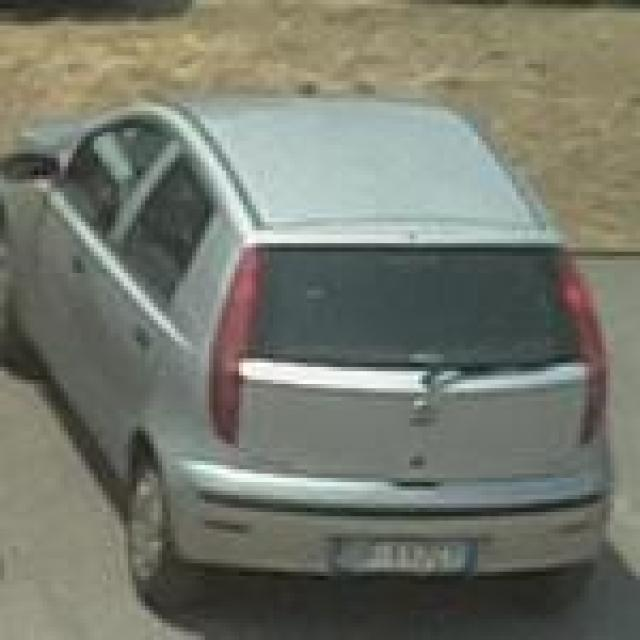cars-sUYr: (4, 59, 640, 628)
